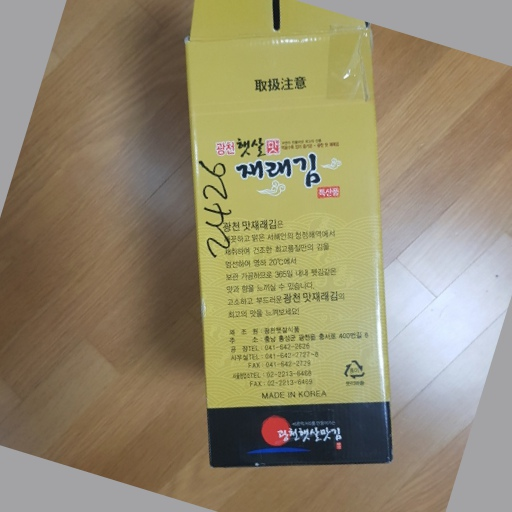Paper_0: (180, 1, 410, 473)
